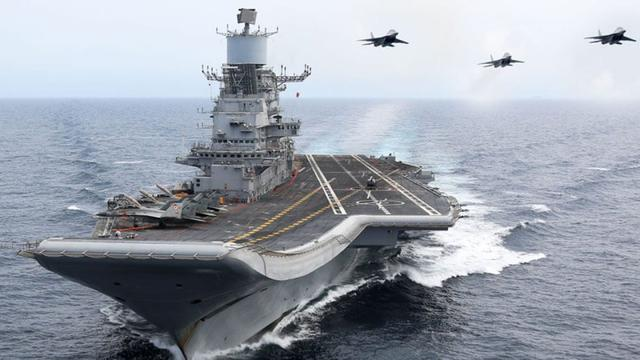airplane: (582, 25, 640, 49), (354, 28, 409, 50), (476, 49, 528, 70)
warship: (13, 12, 475, 354)
